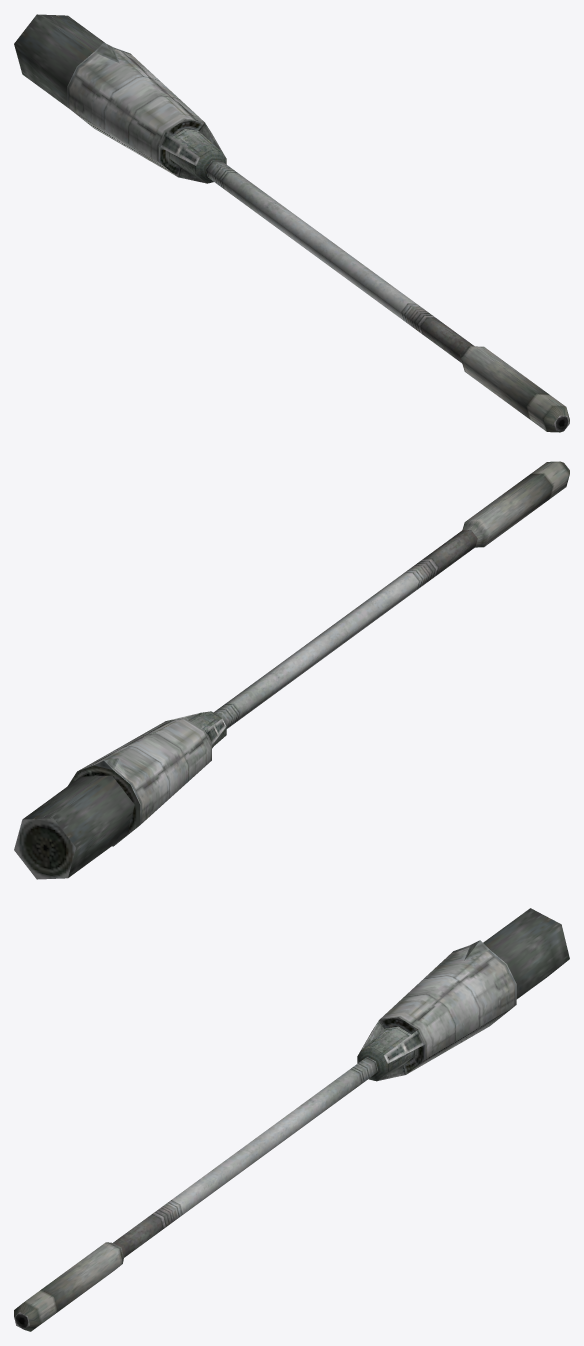
File: bwing_weapon2l_s05_l1.fbx
3 renders of one model, top to bottom at view 1: azimuth 30°, elevation 25°; view 2: azimuth 150°, elevation 25°; view 3: azimuth 330°, elevation 25°, orthographic.
Visible parts, largest first — view 1: mesh_node; view 2: mesh_node; view 3: mesh_node.
Part boxes in pixels (x1,y1,x2,y2): mesh_node: (14,14,569,432); mesh_node: (14,461,569,879); mesh_node: (14,908,569,1331).
Size of the model in its own units: 0.2552 by 0.2794 by 3.13.
Materials: 1 (1 with a texture image).
